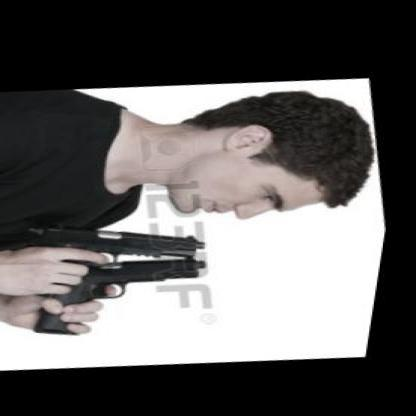pistol: (18, 242, 232, 348), (18, 200, 223, 284)
